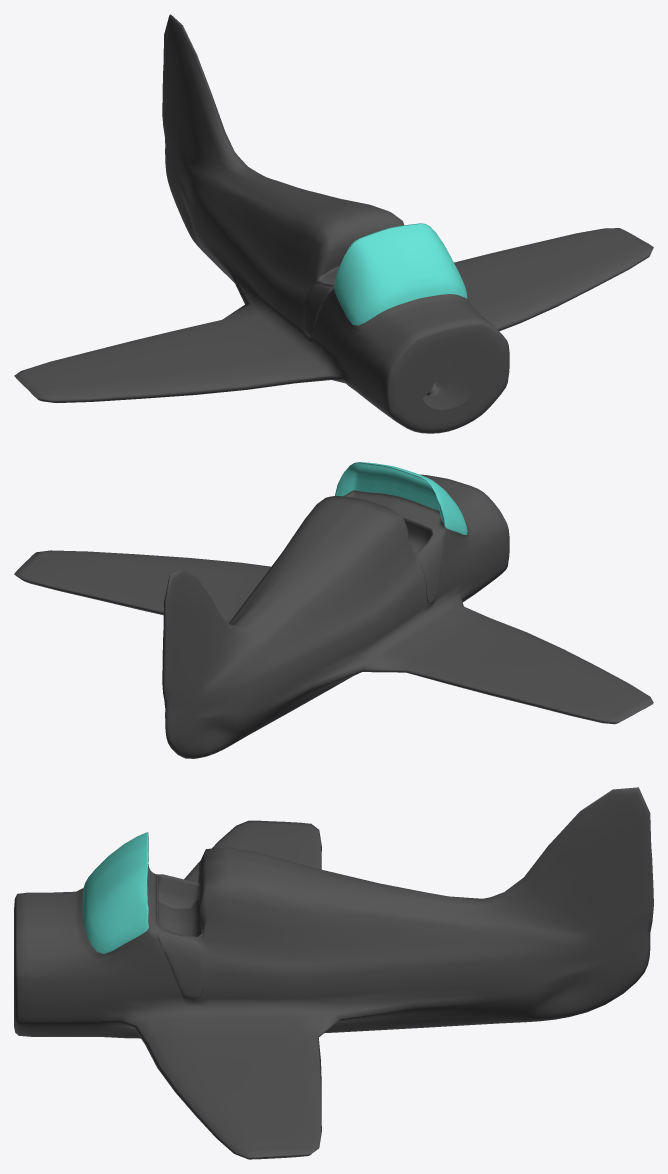
Rendered from CuerpoAvion1.obj.
3 views of the same model, one above another, from view 1: azimuth 30°, elevation 25°; view 2: azimuth 150°, elevation 25°; view 3: azimuth 270°, elevation 25° (orthographic). The views are drawn at different scales.
Parts seen in each view (by area): view 1: CuerpoAvion CuerpoAvion1 Avion1, CuerpoAvion1 Avion1 Parabrisas; view 2: CuerpoAvion CuerpoAvion1 Avion1, CuerpoAvion1 Avion1 Parabrisas; view 3: CuerpoAvion CuerpoAvion1 Avion1, CuerpoAvion1 Avion1 Parabrisas.
Part boxes in pixels (<box>): CuerpoAvion CuerpoAvion1 Avion1: <box>14,14,653,433</box>; CuerpoAvion1 Avion1 Parabrisas: <box>334,223,467,325</box>; CuerpoAvion CuerpoAvion1 Avion1: <box>14,474,653,758</box>; CuerpoAvion1 Avion1 Parabrisas: <box>335,462,467,534</box>; CuerpoAvion CuerpoAvion1 Avion1: <box>14,787,653,1159</box>; CuerpoAvion1 Avion1 Parabrisas: <box>82,832,148,953</box>.
Bounding box in the file's own units: 13.52 × 4.54 × 10.86.
